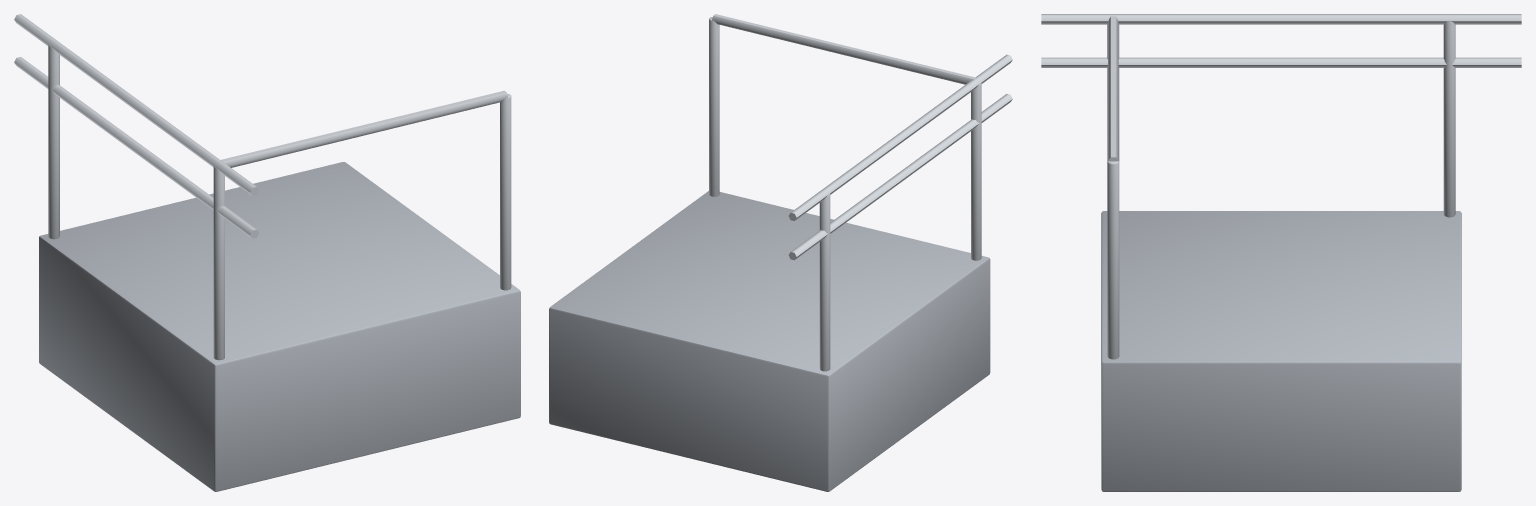
File: patamar_h60.glb
The picture shows the model from 3 angles, left to right: view 1: azimuth 30°, elevation 25°; view 2: azimuth 150°, elevation 25°; view 3: azimuth 270°, elevation 25°; orthographic projection. The views are drawn at different scales.
Visible parts, largest first — view 1: patamar_h60; view 2: patamar_h60; view 3: patamar_h60.
Boxes of the visible parts, bbox=[...] form: patamar_h60: bbox=[14, 14, 520, 491]; patamar_h60: bbox=[549, 14, 1012, 491]; patamar_h60: bbox=[1041, 14, 1521, 491].
Bounding box in the file's own units: 1.5 × 1.52 × 2.
1 material, 1 textured.
